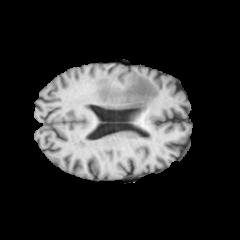glioma: (95, 75, 158, 108)
